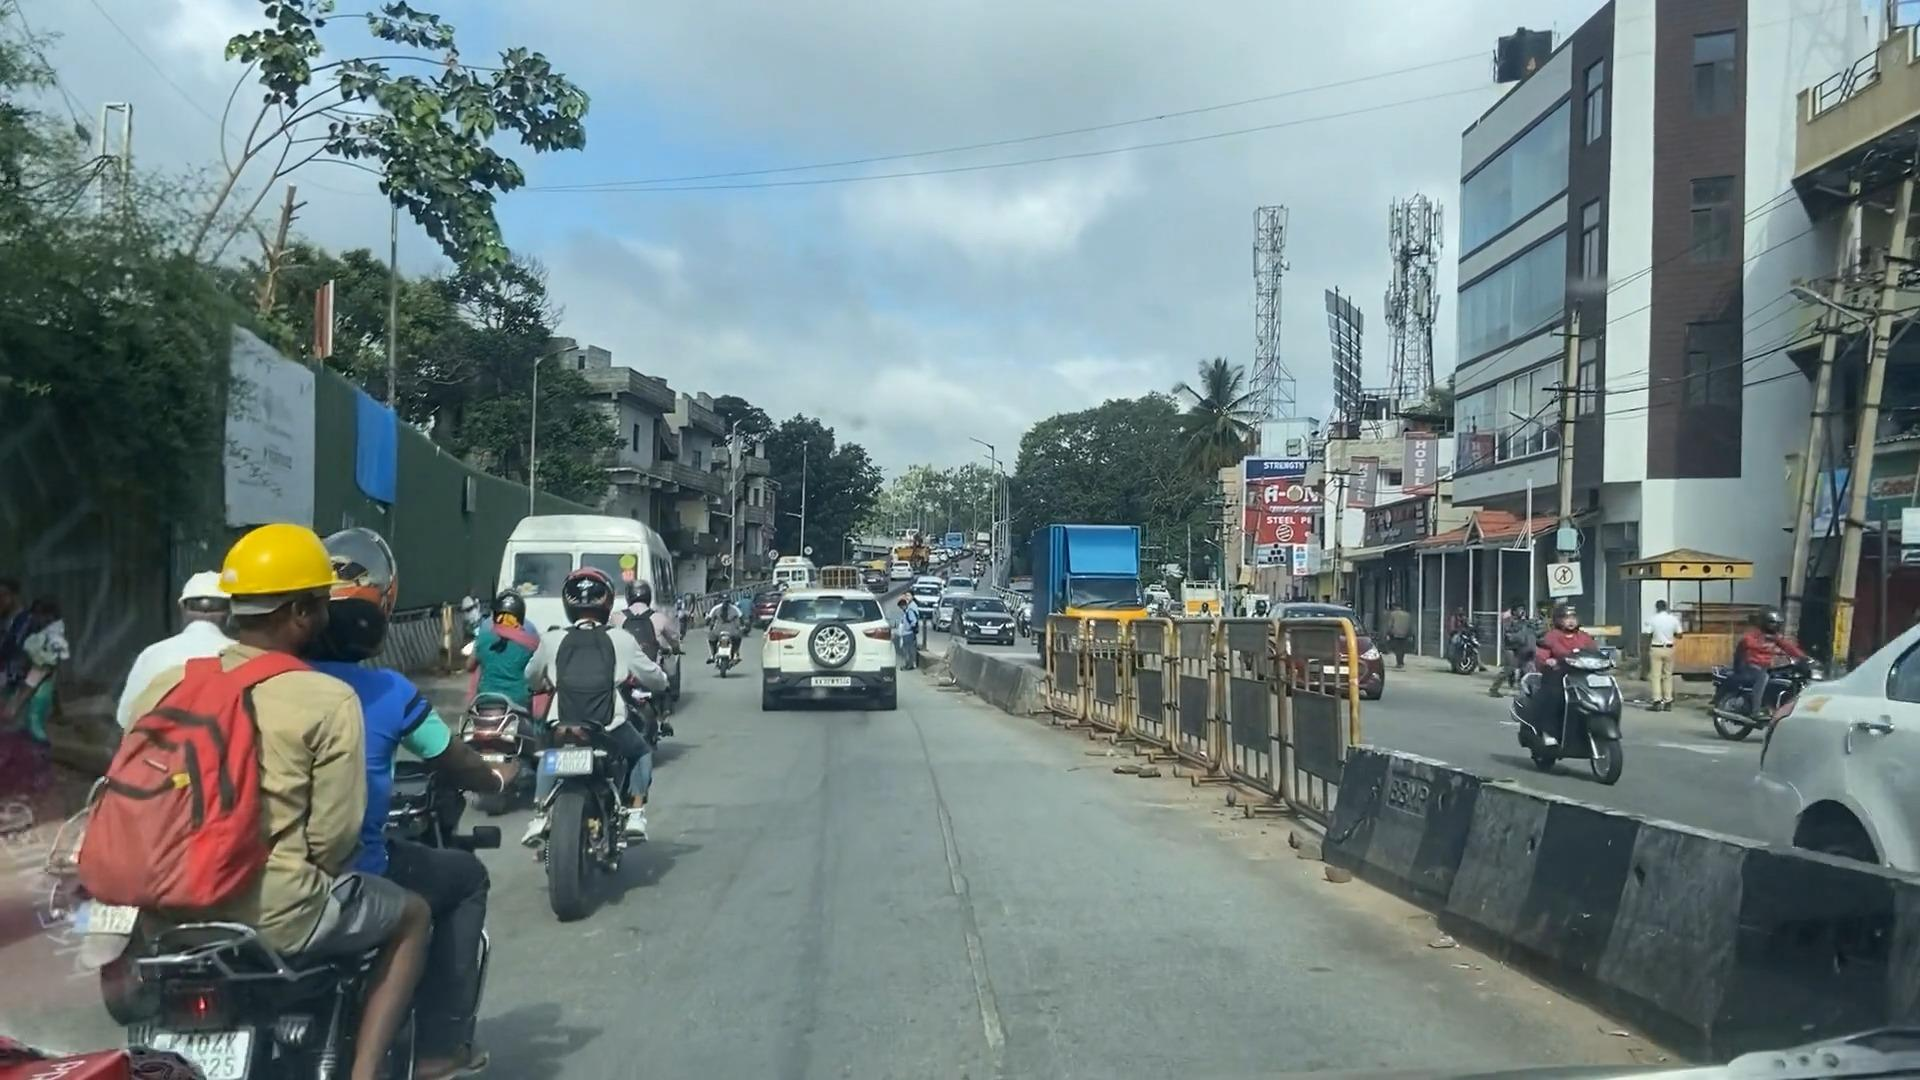LMV: (530, 580, 659, 906), (764, 588, 894, 712)
UnsurfacedRoad: (906, 711, 1018, 1080)
